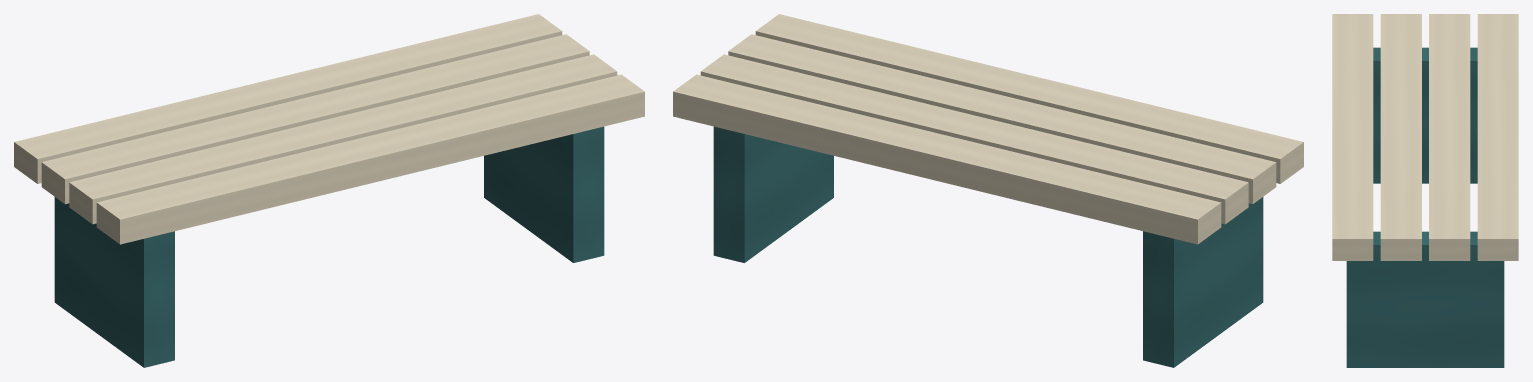
File: atlas100-porcelain-util03.glb
3 renders of one model, left to right at view 1: azimuth 30°, elevation 25°; view 2: azimuth 150°, elevation 25°; view 3: azimuth 270°, elevation 25°, orthographic. The views are drawn at different scales.
Visible parts, largest first — view 1: atlas100-porcelain-util03:part-005, atlas100-porcelain-util03:part-003, atlas100-porcelain-util03:part-002, atlas100-porcelain-util03:part-004, atlas100-porcelain-util03:part-000, atlas100-porcelain-util03:part-001; view 2: atlas100-porcelain-util03:part-002, atlas100-porcelain-util03:part-004, atlas100-porcelain-util03:part-003, atlas100-porcelain-util03:part-005, atlas100-porcelain-util03:part-000, atlas100-porcelain-util03:part-001; view 3: atlas100-porcelain-util03:part-001, atlas100-porcelain-util03:part-002, atlas100-porcelain-util03:part-003, atlas100-porcelain-util03:part-004, atlas100-porcelain-util03:part-005, atlas100-porcelain-util03:part-000.
Boxes of the visible parts, bbox=[...] form: atlas100-porcelain-util03:part-005: bbox=[96, 74, 644, 244]; atlas100-porcelain-util03:part-003: bbox=[41, 34, 589, 204]; atlas100-porcelain-util03:part-002: bbox=[14, 14, 562, 183]; atlas100-porcelain-util03:part-004: bbox=[69, 54, 617, 224]; atlas100-porcelain-util03:part-000: bbox=[54, 197, 174, 367]; atlas100-porcelain-util03:part-001: bbox=[484, 126, 604, 262]; atlas100-porcelain-util03:part-002: bbox=[673, 74, 1221, 244]; atlas100-porcelain-util03:part-004: bbox=[728, 34, 1276, 204]; atlas100-porcelain-util03:part-003: bbox=[700, 54, 1248, 224]; atlas100-porcelain-util03:part-005: bbox=[755, 14, 1303, 183]; atlas100-porcelain-util03:part-000: bbox=[1143, 197, 1263, 367]; atlas100-porcelain-util03:part-001: bbox=[713, 126, 833, 262]; atlas100-porcelain-util03:part-001: bbox=[1346, 231, 1504, 367]; atlas100-porcelain-util03:part-002: bbox=[1477, 14, 1518, 260]; atlas100-porcelain-util03:part-003: bbox=[1429, 14, 1470, 260]; atlas100-porcelain-util03:part-004: bbox=[1380, 14, 1421, 260]; atlas100-porcelain-util03:part-005: bbox=[1332, 14, 1373, 260]; atlas100-porcelain-util03:part-000: bbox=[1373, 47, 1477, 183].
Size of the model in its own units: 2.2 by 0.65 by 0.77.
Materials: 2 (2 with a texture image).
